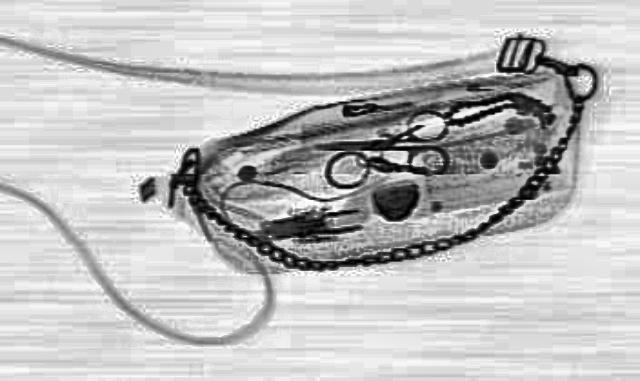Scissors: (312, 108, 448, 176)
